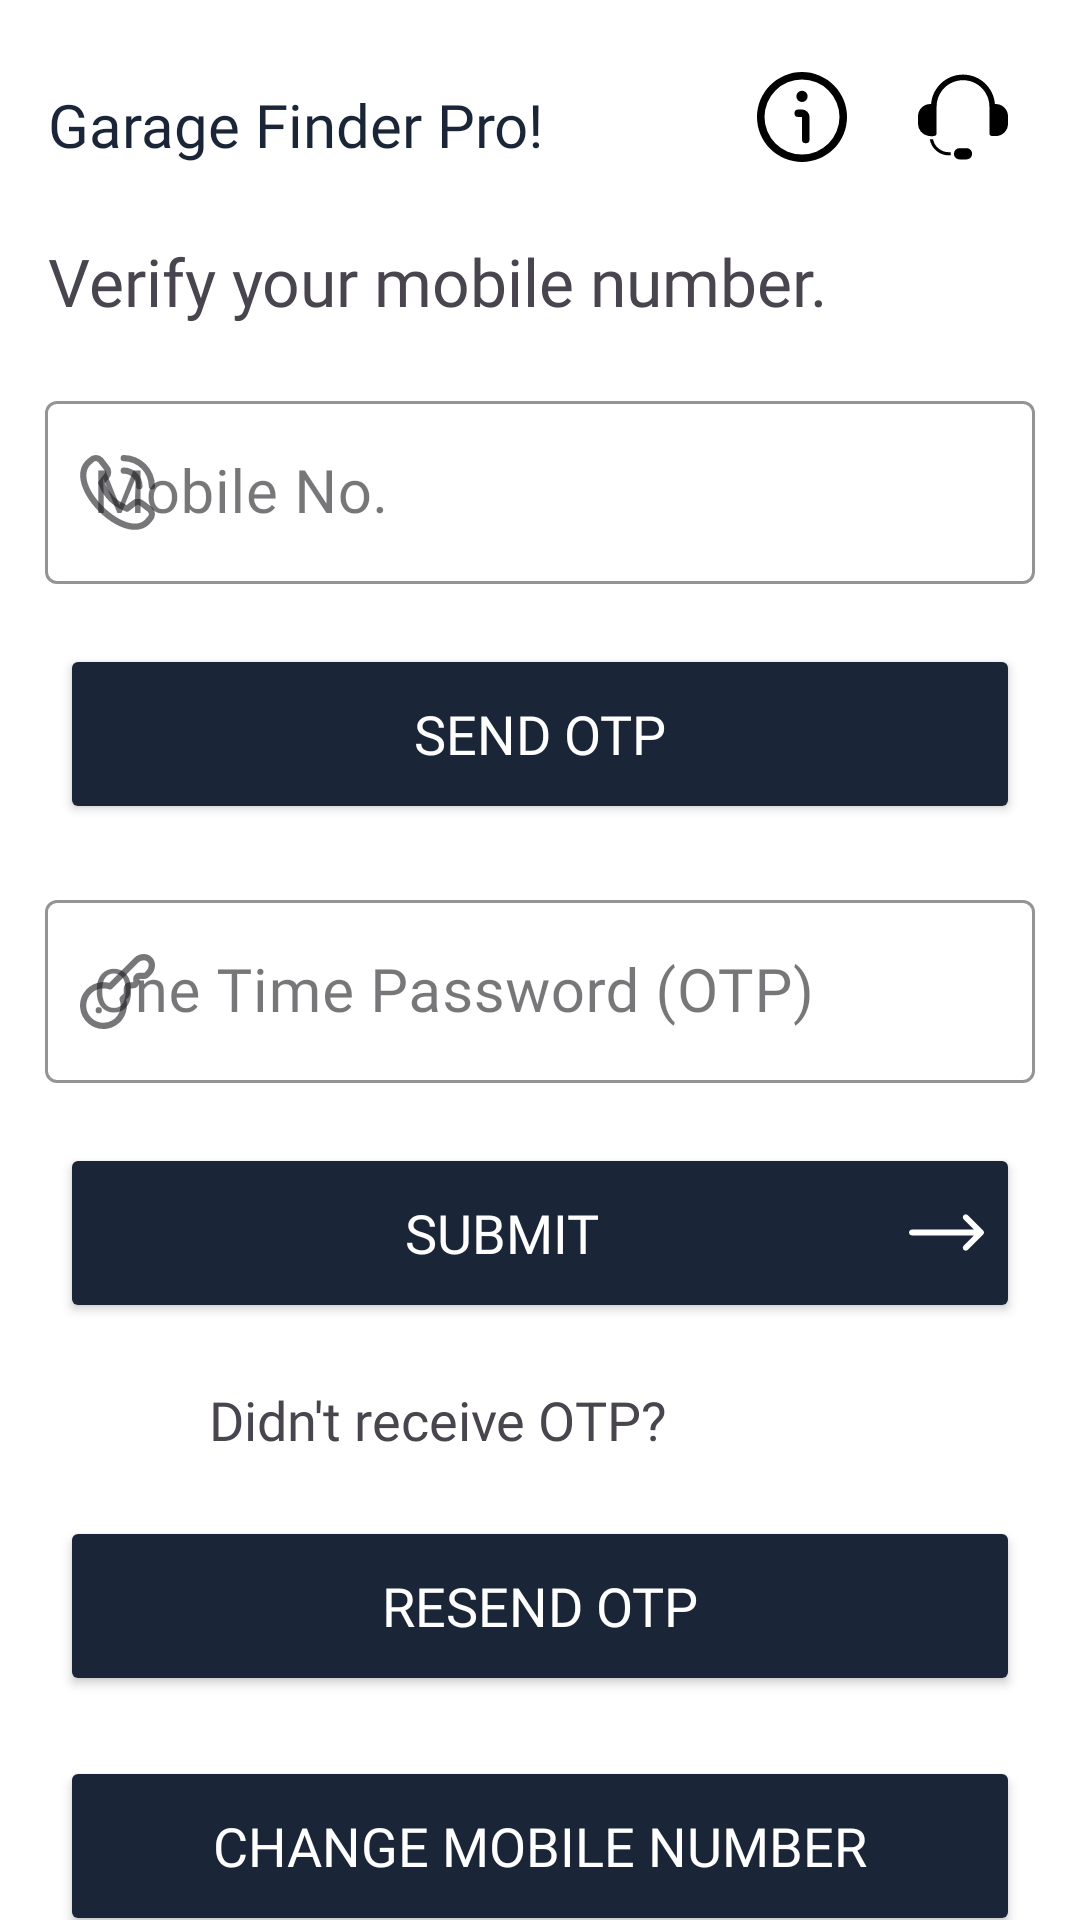

Screen size 1080x1920. Icon name, then its center in pixels as (x=x, y=y):
info: (x=802, y=117)
support: (x=963, y=117)
